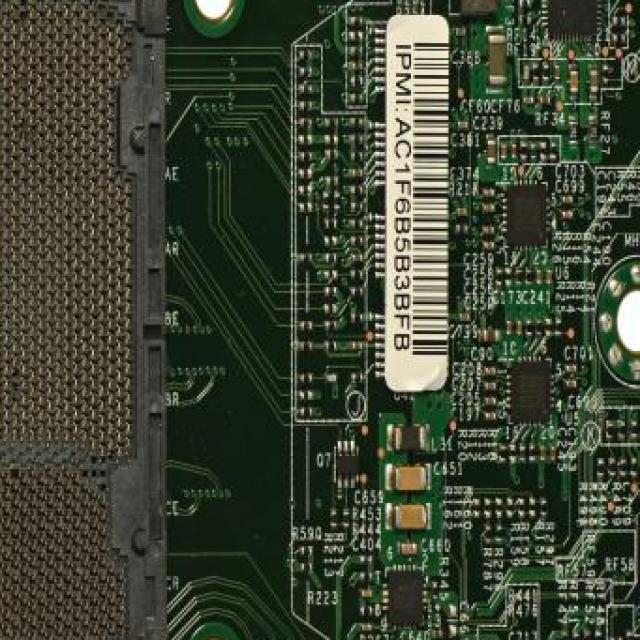IC: (508, 360, 552, 426), (505, 184, 549, 250), (385, 568, 425, 628), (546, 0, 599, 34)
capacitor: (486, 32, 508, 86), (392, 503, 428, 532), (394, 466, 429, 494), (482, 326, 501, 344), (486, 139, 497, 167), (399, 540, 418, 556), (589, 69, 600, 96), (569, 69, 579, 96), (546, 268, 554, 288), (562, 193, 574, 206), (501, 142, 509, 160), (484, 240, 496, 252), (482, 225, 494, 237), (484, 189, 496, 201), (456, 206, 468, 218), (458, 312, 470, 324), (565, 379, 577, 391), (484, 396, 496, 408), (360, 588, 372, 600), (432, 628, 444, 640), (300, 66, 312, 78), (351, 60, 363, 72), (325, 372, 337, 384), (535, 268, 542, 288), (541, 444, 548, 464), (507, 319, 514, 338), (454, 26, 466, 37), (522, 96, 534, 107), (539, 96, 551, 107), (456, 120, 468, 131), (484, 203, 496, 214), (562, 210, 574, 221), (351, 253, 363, 264), (353, 342, 364, 354), (524, 64, 531, 82), (554, 64, 561, 82), (511, 142, 518, 160), (550, 444, 557, 462), (567, 364, 578, 375), (486, 366, 497, 377), (484, 381, 496, 391), (351, 169, 363, 179), (362, 623, 374, 633), (516, 321, 523, 338), (486, 411, 497, 421)
inductor: (392, 424, 428, 453), (456, 0, 503, 13)
resistor: (588, 118, 600, 146), (567, 118, 579, 146), (332, 192, 341, 212), (617, 420, 626, 440), (608, 458, 617, 478), (484, 526, 493, 546), (330, 510, 339, 530), (499, 445, 508, 464), (298, 51, 312, 63), (300, 150, 314, 162), (300, 82, 314, 94), (300, 100, 314, 112), (300, 116, 314, 128), (300, 319, 314, 331), (529, 443, 537, 464), (300, 372, 314, 384), (300, 406, 312, 420), (300, 562, 314, 574), (542, 64, 551, 82), (495, 268, 503, 288), (516, 268, 524, 288), (608, 420, 616, 440), (619, 458, 627, 478), (351, 15, 364, 27), (351, 150, 364, 162), (351, 116, 364, 128), (351, 132, 364, 144), (326, 150, 339, 162), (326, 118, 339, 130), (351, 45, 364, 57), (351, 75, 364, 87), (351, 92, 364, 104), (351, 201, 364, 213), (326, 176, 339, 188), (325, 340, 338, 352), (351, 270, 364, 282), (456, 223, 468, 236), (361, 554, 374, 566), (597, 459, 605, 478), (342, 511, 350, 530), (614, 15, 626, 27), (614, 32, 626, 44), (602, 66, 610, 84), (533, 64, 541, 82), (351, 218, 363, 230), (325, 218, 337, 230), (325, 253, 337, 265), (300, 252, 312, 264), (325, 286, 337, 298), (325, 319, 337, 331), (300, 342, 312, 354), (351, 312, 363, 324), (351, 372, 363, 384), (495, 524, 503, 542), (360, 570, 372, 582), (360, 604, 372, 616), (351, 186, 364, 197), (349, 235, 363, 245), (529, 142, 536, 162), (550, 142, 557, 162), (520, 444, 527, 464), (631, 420, 638, 440), (541, 497, 548, 517), (556, 319, 563, 338), (520, 143, 527, 162), (526, 319, 533, 338), (535, 319, 542, 338), (520, 15, 532, 26), (353, 285, 364, 297), (300, 546, 312, 557), (631, 458, 638, 476), (432, 584, 439, 602), (526, 268, 532, 288), (323, 192, 329, 211), (519, 0, 531, 9), (583, 630, 591, 640), (624, 630, 632, 640), (561, 632, 569, 640), (572, 632, 580, 640), (595, 632, 602, 640), (610, 636, 623, 640)
transistor: (336, 452, 360, 476)
